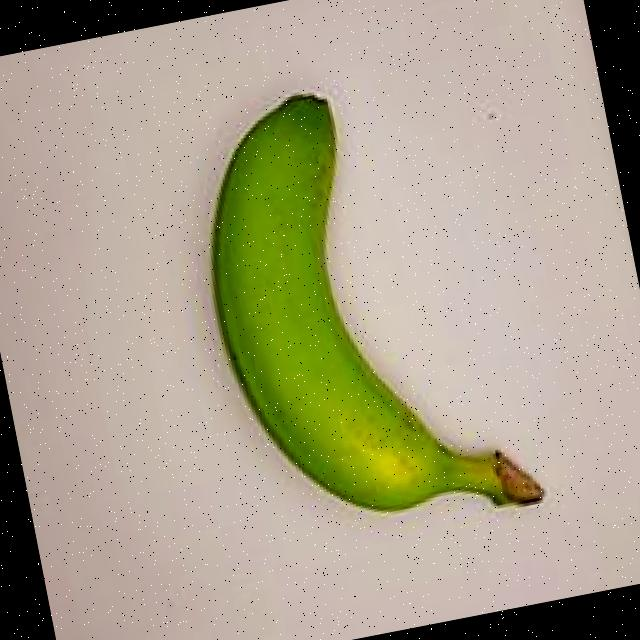Unripe: (161, 44, 574, 596)
